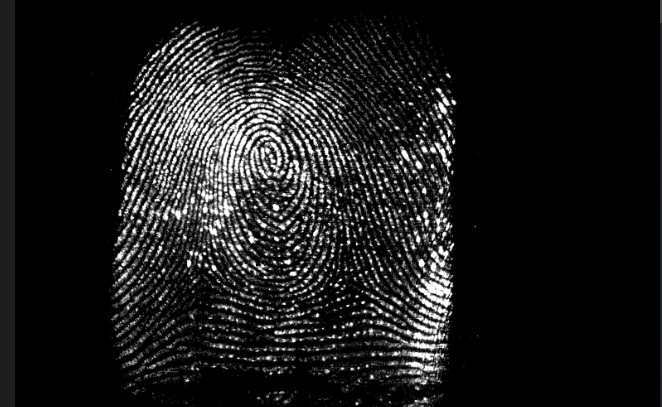nucelo: (249, 137, 286, 178)
verticilo: (186, 261, 214, 293), (333, 268, 360, 294)
